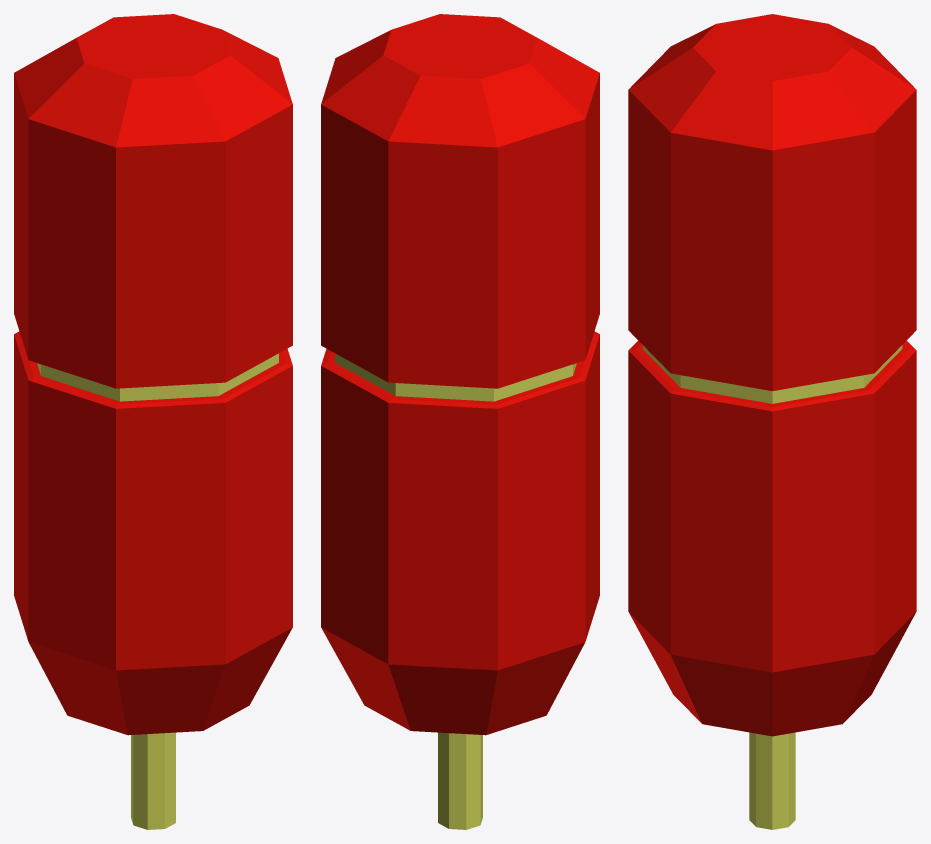
The model's file is enemy dummy.fbx.
3 renders of one model, left to right at view 1: azimuth 30°, elevation 25°; view 2: azimuth 150°, elevation 25°; view 3: azimuth 270°, elevation 25°, orthographic.
Parts seen in each view (by area): view 1: Cylinder.020; view 2: Cylinder.020; view 3: Cylinder.020.
Boxes of the visible parts, x1,y1,x2,y2 form: Cylinder.020: [14, 14, 292, 829]; Cylinder.020: [321, 14, 599, 829]; Cylinder.020: [628, 14, 916, 829].
Bounding box in the file's own units: 125 × 369 × 125.
